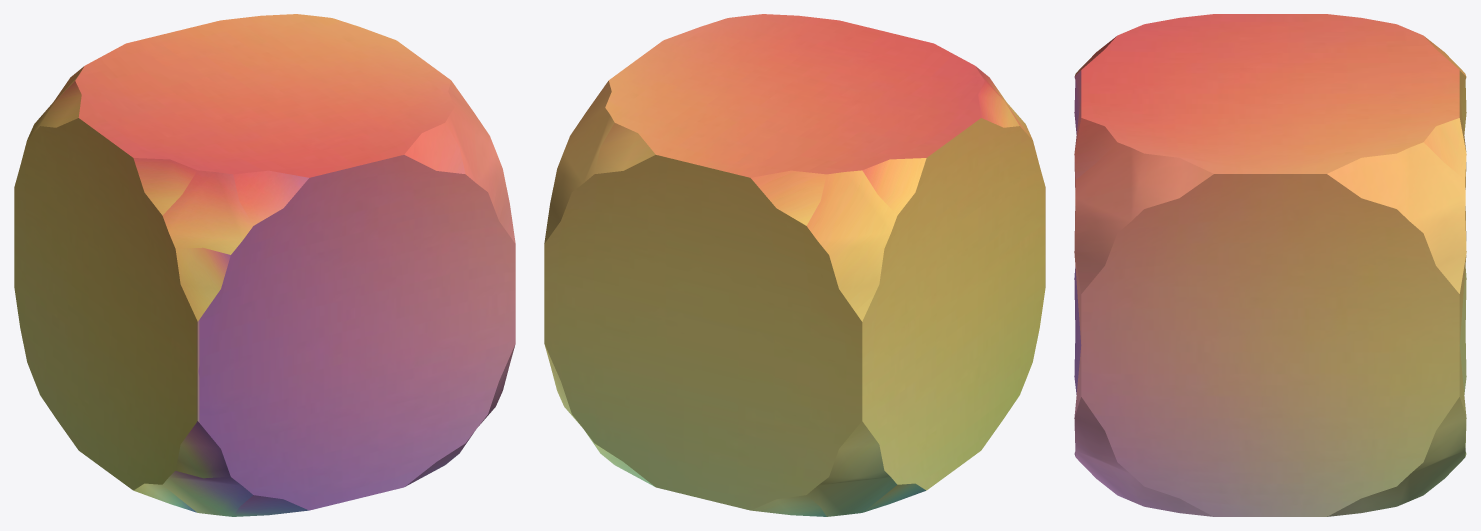
3 renders of one model, left to right at view 1: azimuth 30°, elevation 25°; view 2: azimuth 150°, elevation 25°; view 3: azimuth 270°, elevation 25°, orthographic. The views are drawn at different scales.
Visible parts, largest first — view 1: Cube; view 2: Cube; view 3: Cube.
Boxes of the visible parts, x1,y1,x2,y2 form: Cube: (14, 14, 515, 516); Cube: (544, 14, 1045, 516); Cube: (1074, 14, 1466, 516).
Size of the model in its own units: 2.36 by 2.36 by 2.36.
Materials: 1 (1 with a texture image).
